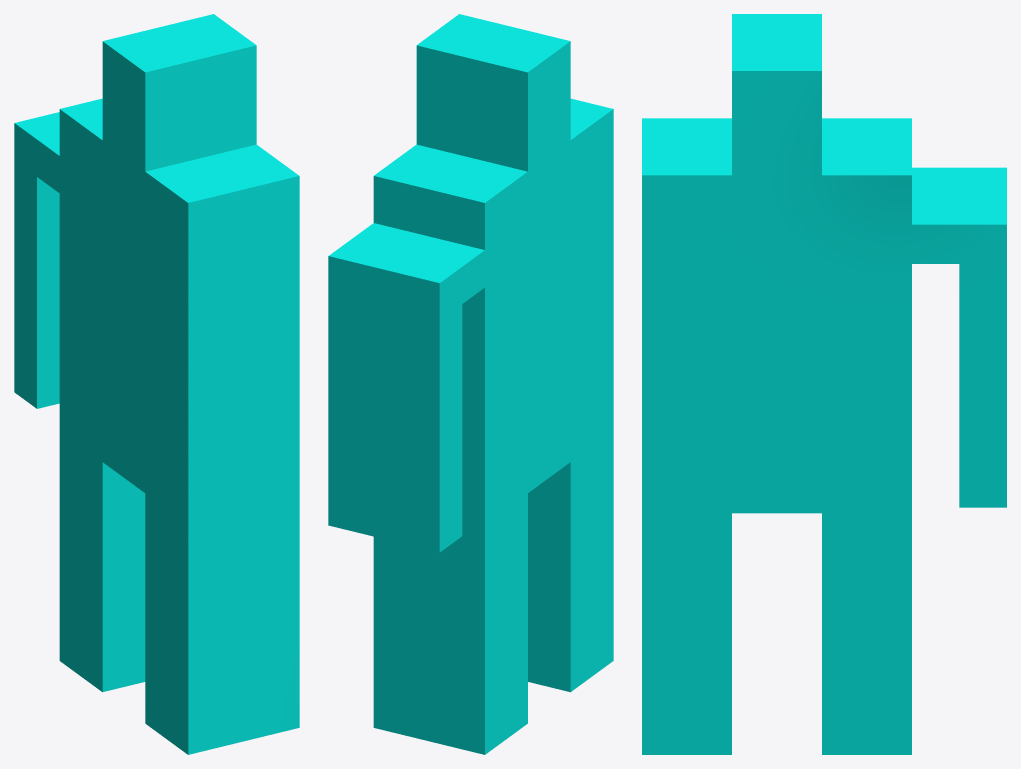
File: adam.obj
3 renders of one model, left to right at view 1: azimuth 30°, elevation 25°; view 2: azimuth 150°, elevation 25°; view 3: azimuth 270°, elevation 25°, orthographic. The views are drawn at different scales.
Parts seen in each view (by area): view 1: Cube; view 2: Cube; view 3: Cube.
Boxes of the visible parts, x1,y1,x2,y2 form: Cube: (14,14,299,754); Cube: (328,14,613,754); Cube: (642,14,1006,754).
Size of the model in its own units: 1 by 5.59 by 2.7.
1 material, 1 textured.
